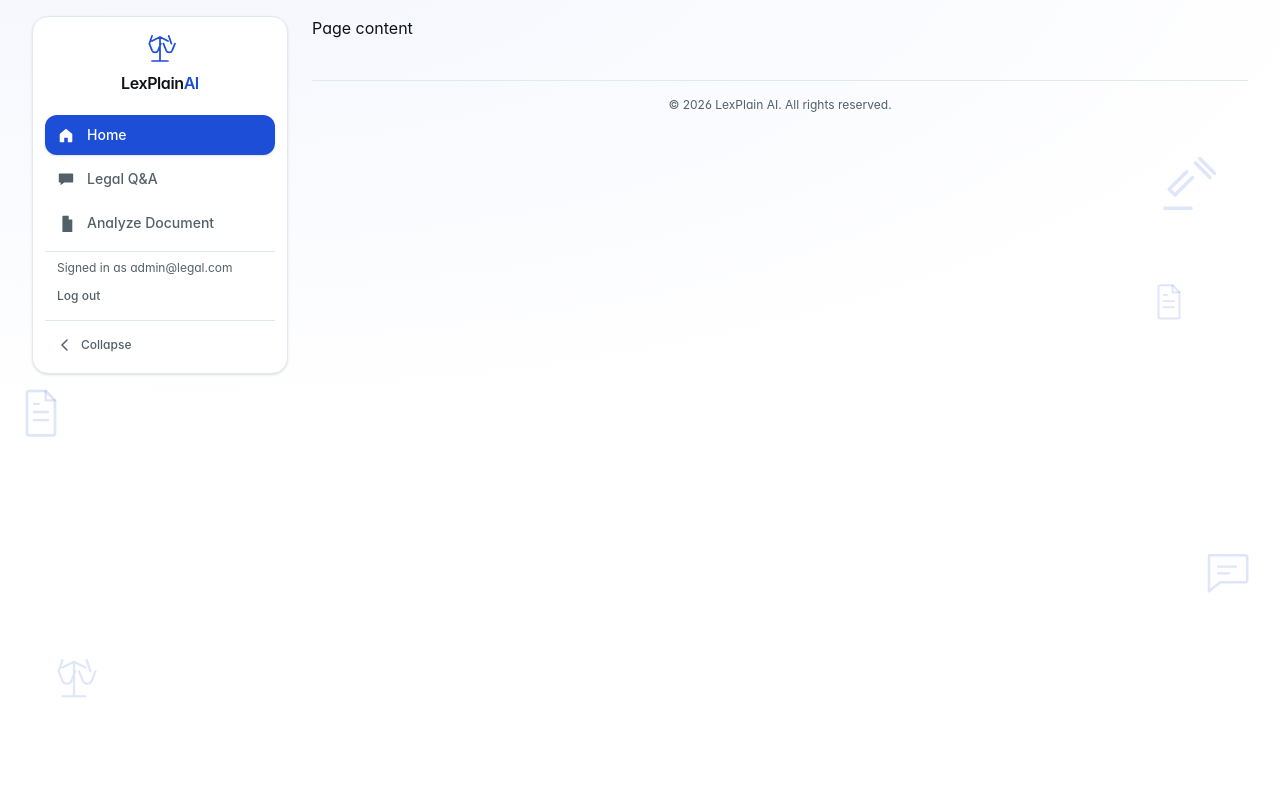
Test: Sidebar logout confirmation (authRequired: true) › Cancel dismisses the dialog without logging out
Click the button "Log out". click: (160, 296)
box: [45, 280, 275, 312]
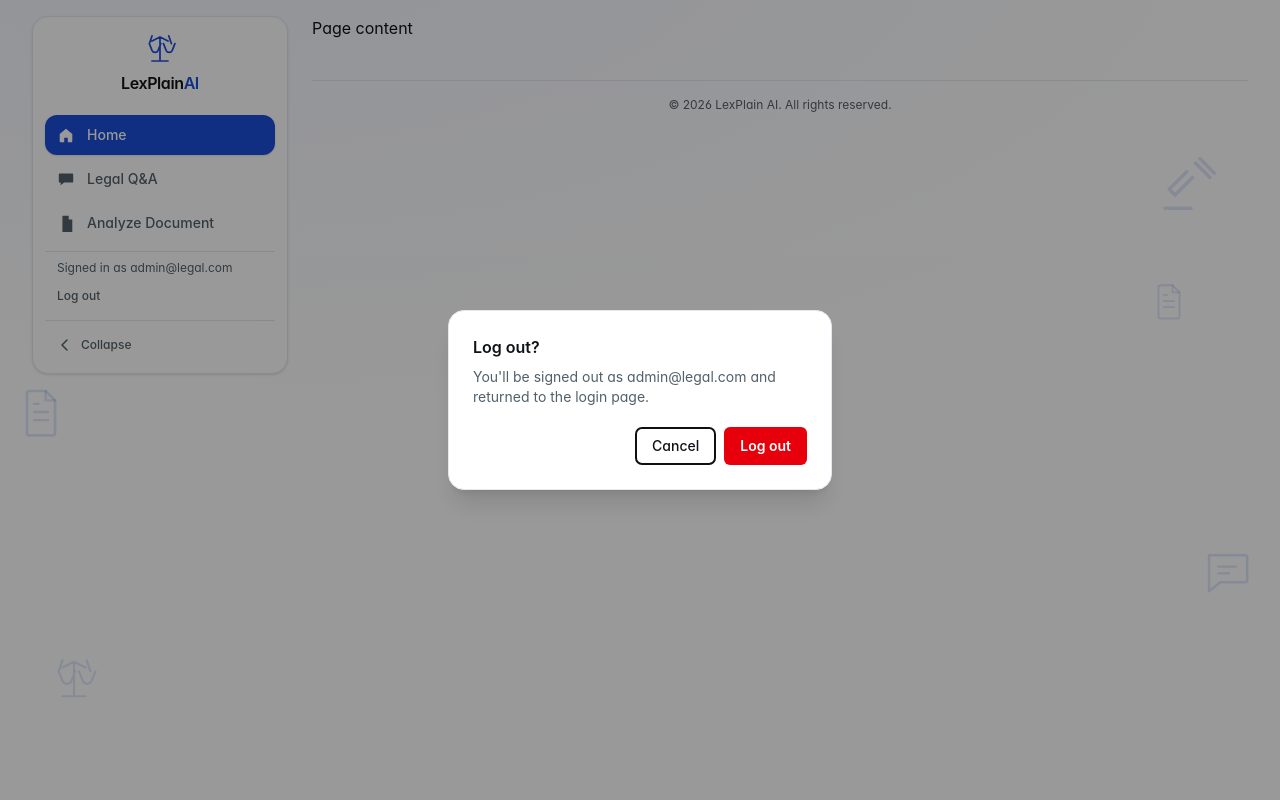
Expected: the dialog is shown, [448, 310, 832, 490]
Click the button "Cancel". click: (676, 446)
box: [635, 427, 716, 465]
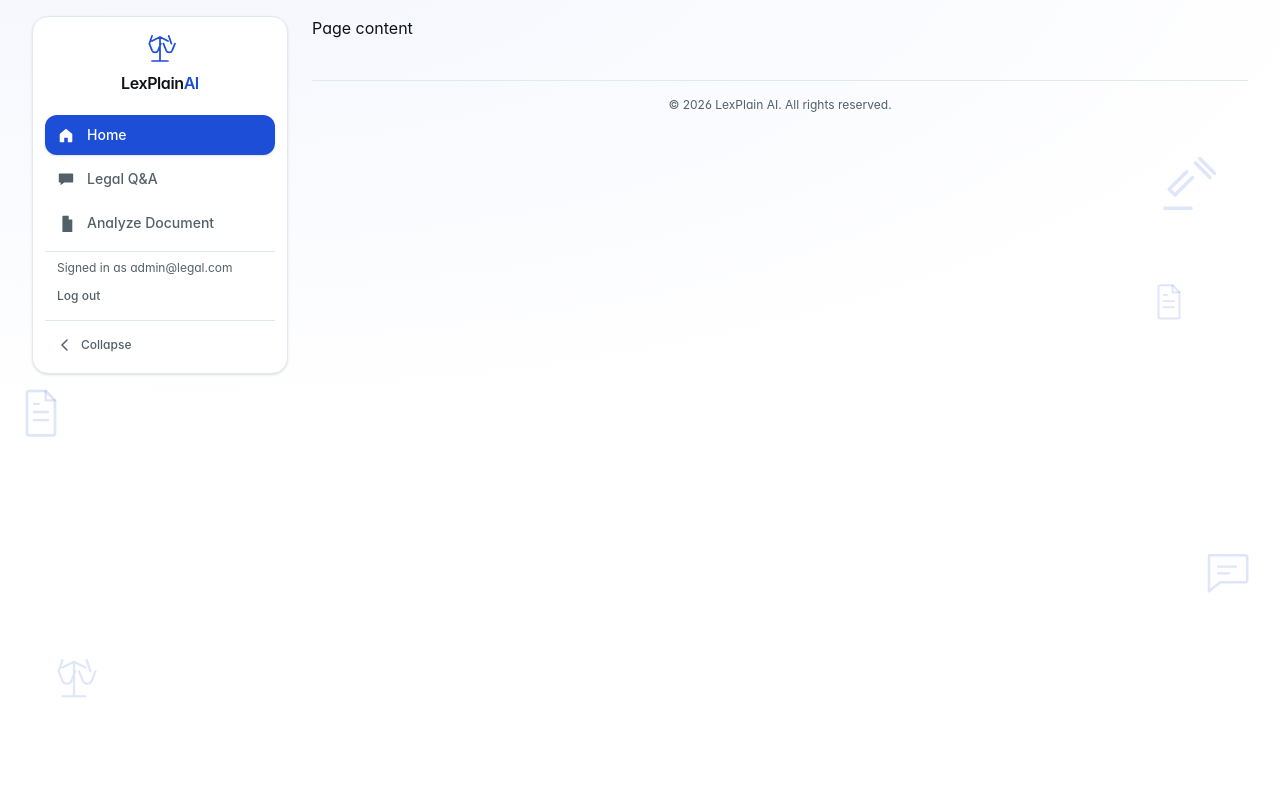
Expected: the dialog is gone
